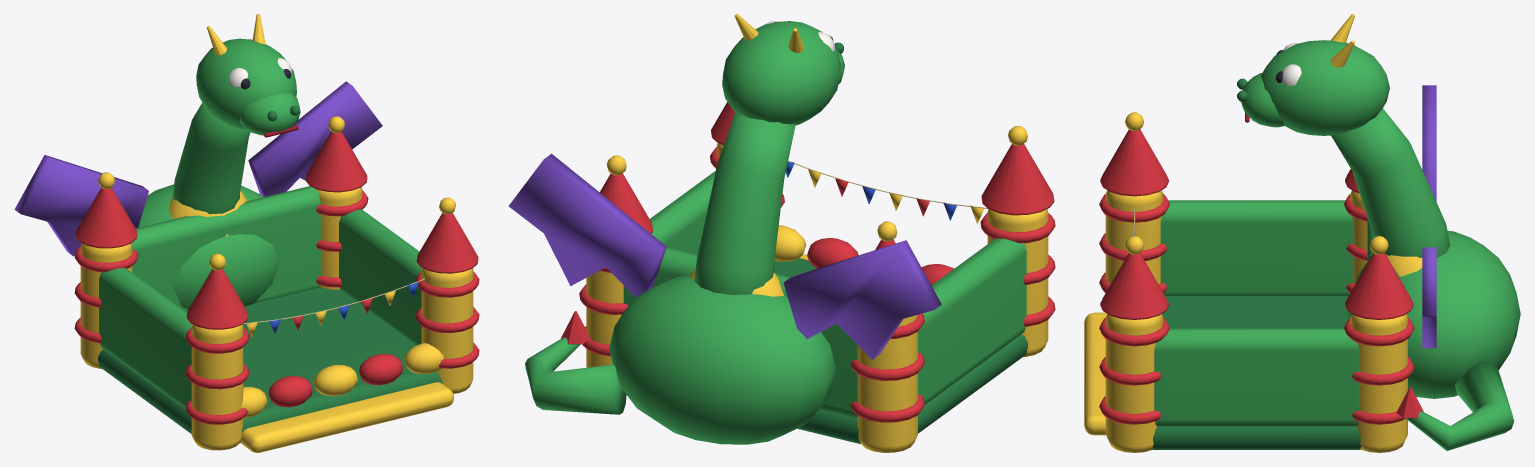
File: faire_dragon.glb
3 views of the same model, side by side, from view 1: azimuth 30°, elevation 25°; view 2: azimuth 150°, elevation 25°; view 3: azimuth 270°, elevation 25° (orthographic). The views are drawn at different scales.
Parts seen in each view (by area): view 1: Dragon; view 2: Dragon; view 3: Dragon.
Boxes of the visible parts, box(x1,y1,x2,y2) form: Dragon: box(14, 14, 479, 452); Dragon: box(508, 14, 1055, 452); Dragon: box(1084, 14, 1520, 452).
Size of the model in its own units: 9.6 by 8.21 by 9.1.
